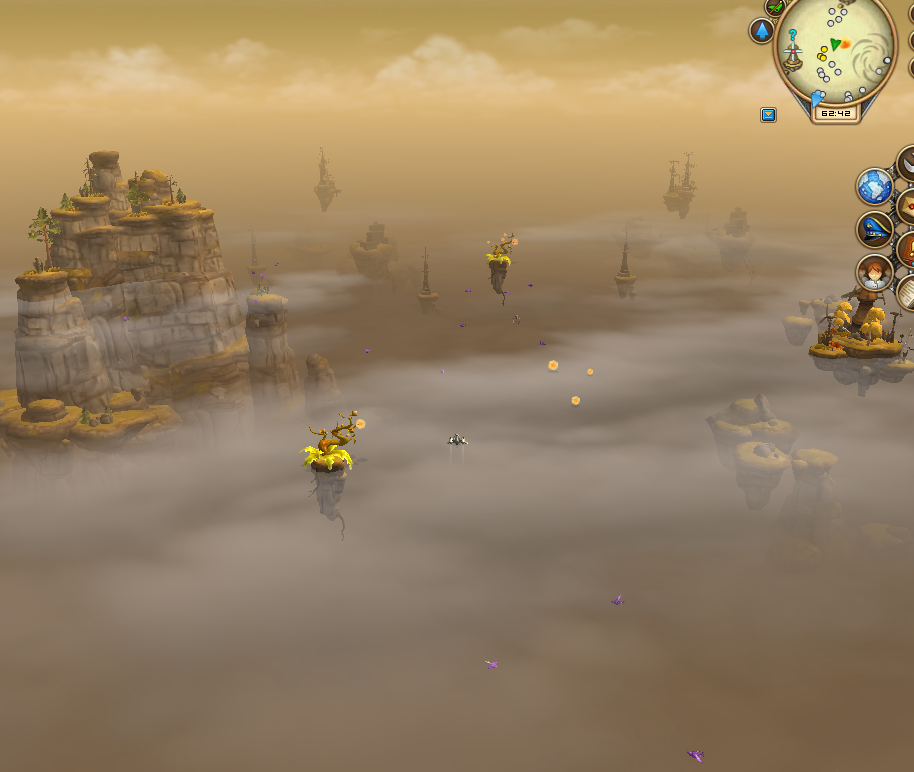dandelion-full: (293, 404, 370, 513), (477, 229, 521, 296)
fluff: (540, 354, 563, 377), (563, 391, 585, 408), (584, 363, 597, 377)
